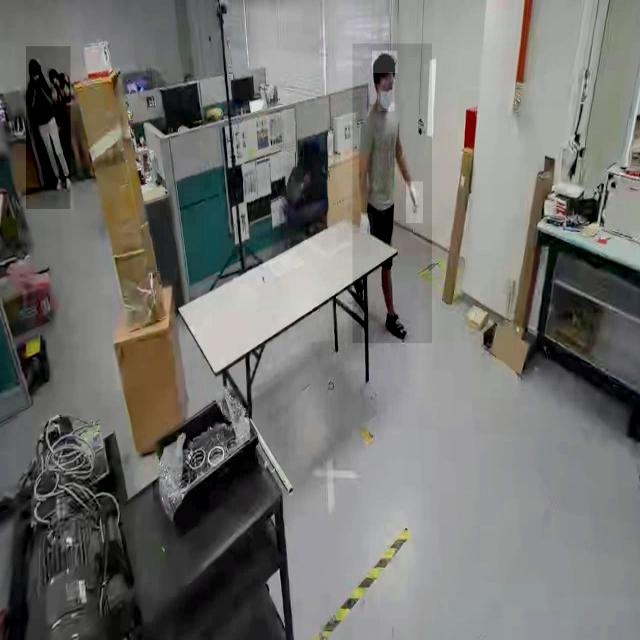face_mask: (378, 72, 394, 111), (30, 65, 40, 91)
hand_glove: (405, 181, 423, 224), (359, 212, 373, 234)
head_nohelmet: (372, 51, 398, 74)
person: (352, 44, 432, 344), (26, 46, 70, 210)
